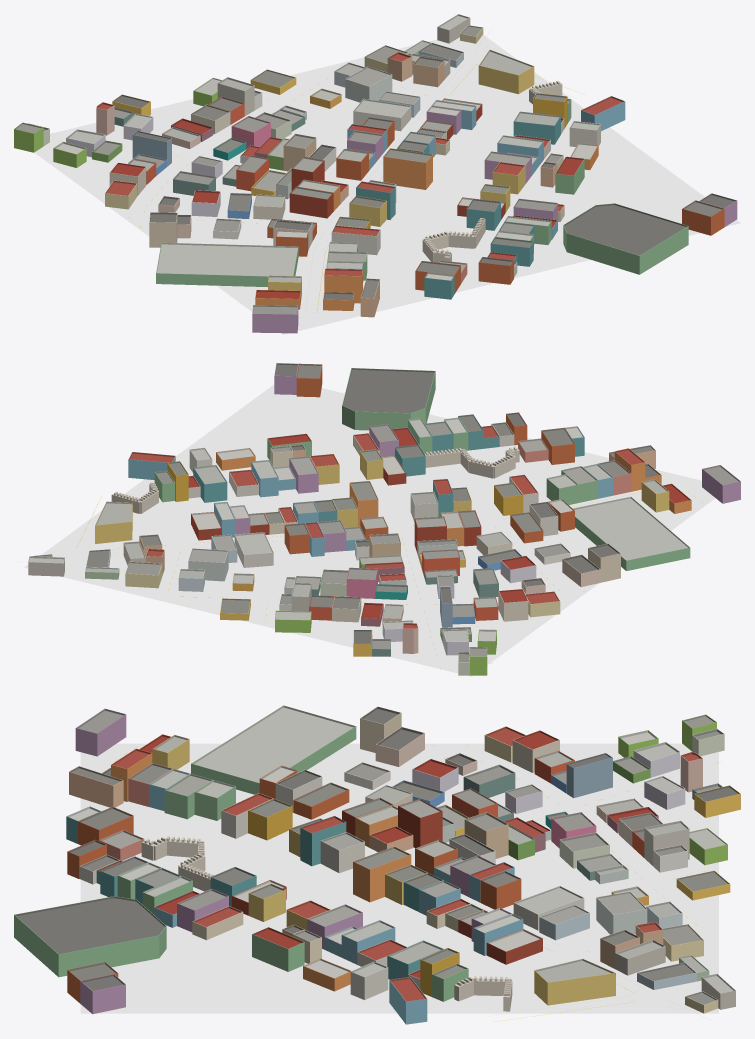
3 renders of one model, top to bottom at view 1: azimuth 30°, elevation 25°; view 2: azimuth 150°, elevation 25°; view 3: azimuth 270°, elevation 25°, orthographic. The views are drawn at different scales.
Visible parts, largest first — view 1: plaza, walls, roofs, stone; view 2: roofs, plaza, walls, stone; view 3: walls, roofs, plaza, stone.
Boxes of the visible parts, box(x1,y1,x2,y2) form: plaza: box(34, 34, 740, 334); walls: box(14, 18, 737, 333); roofs: box(14, 14, 736, 314); stone: box(422, 81, 562, 262); roofs: box(28, 363, 740, 662); plaza: box(24, 384, 715, 676); walls: box(28, 366, 740, 675); stone: box(111, 447, 519, 513); walls: box(14, 713, 740, 1024); roofs: box(14, 705, 740, 1004); plaza: box(80, 743, 718, 1013); stone: box(141, 836, 512, 1011).
Size of what is drawn, in the model's own units: 284 by 14.15 by 285.
